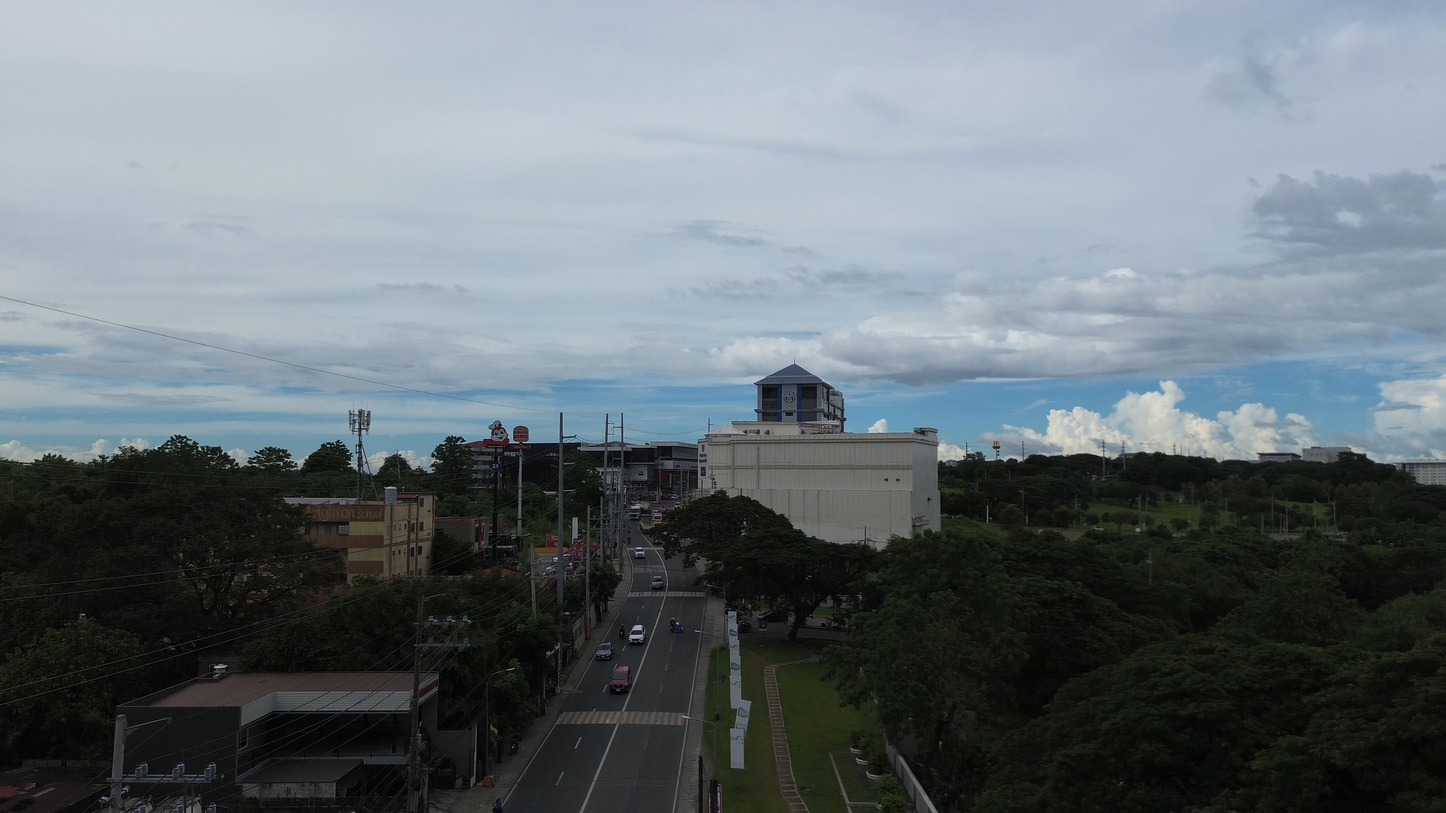car: (595, 641, 613, 659), (651, 576, 665, 589)
vehicle: (610, 665, 631, 692), (628, 624, 645, 644), (761, 610, 788, 621), (651, 509, 664, 524), (633, 547, 645, 558)
